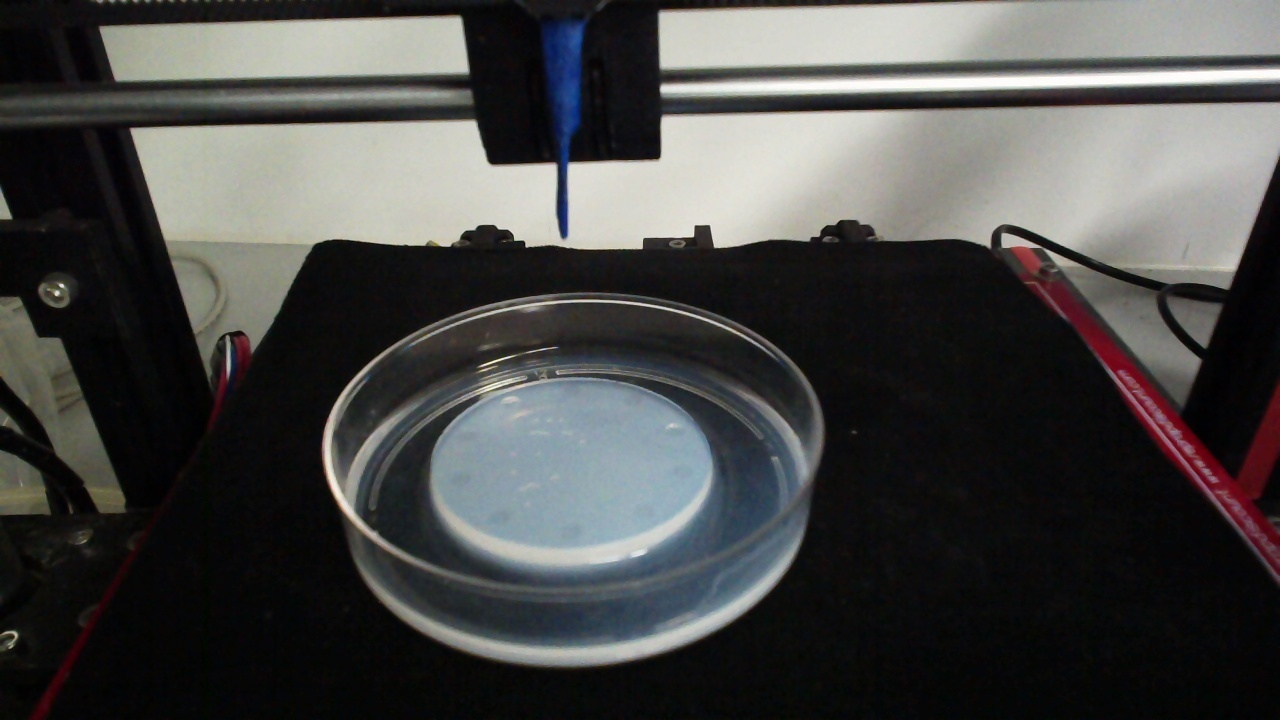groove: (556, 522, 584, 543), (447, 469, 473, 490), (485, 509, 514, 527), (663, 422, 688, 440), (632, 501, 655, 520), (556, 383, 581, 400), (672, 462, 693, 481), (620, 392, 644, 407), (500, 394, 520, 411), (455, 428, 477, 441)
needle: (544, 22, 583, 240)
